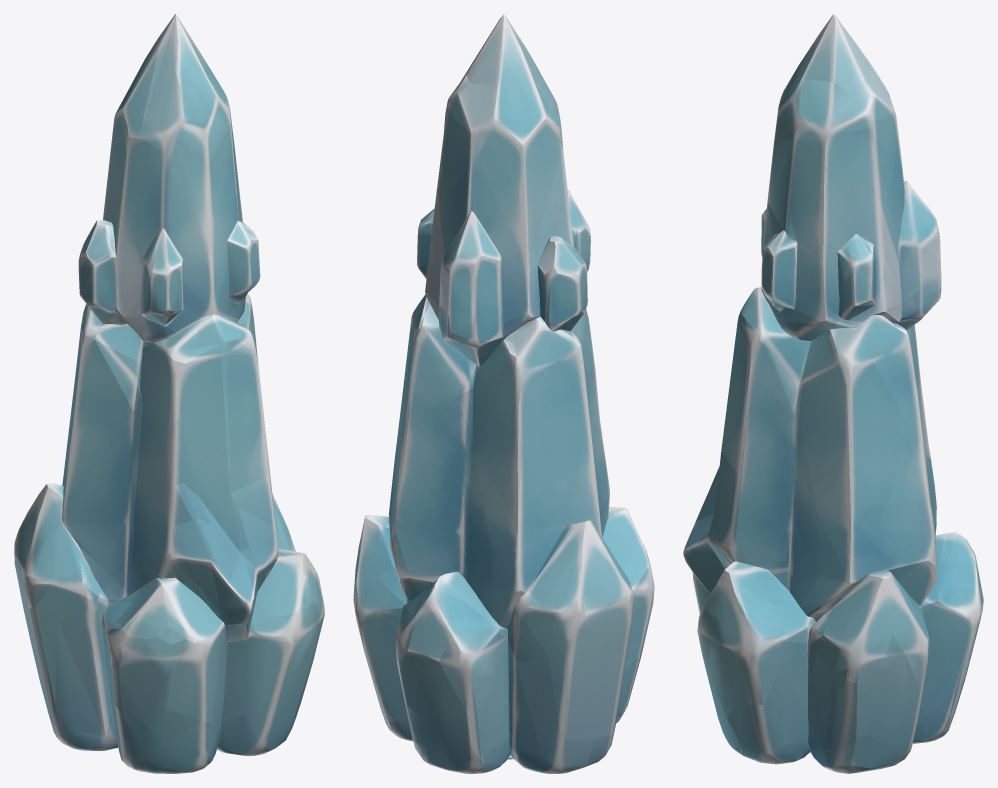
Rendered from prop.glb.
3 renders of one model, left to right at view 1: azimuth 30°, elevation 25°; view 2: azimuth 150°, elevation 25°; view 3: azimuth 270°, elevation 25°, orthographic.
Bounding box in the file's own units: 0.7491 × 1.9 × 0.7261.
Materials: 1 (1 with a texture image).
